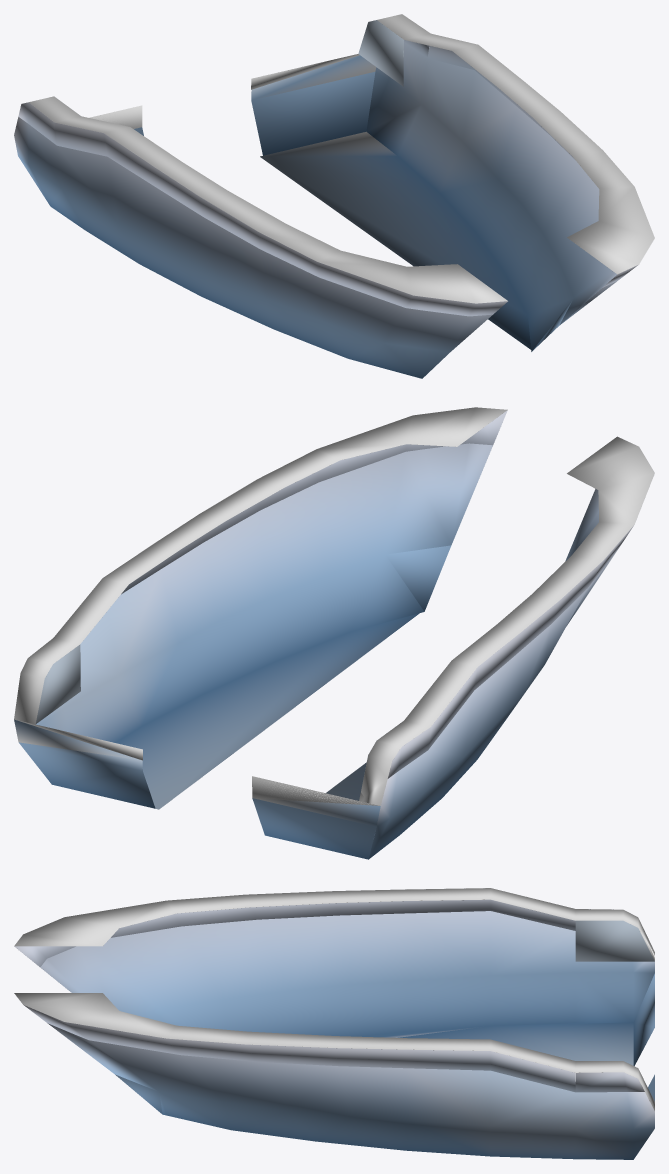
The model's file is BOAT.fbx.
3 views of the same model, one above another, from view 1: azimuth 30°, elevation 25°; view 2: azimuth 150°, elevation 25°; view 3: azimuth 270°, elevation 25° (orthographic). The views are drawn at different scales.
Parts seen in each view (by area): view 1: vsn_mesh_2_f0501i0301_ship04.001, vsn_mesh_2_f0501i0301_ship04; view 2: vsn_mesh_2_f0501i0301_ship04.001, vsn_mesh_2_f0501i0301_ship04; view 3: vsn_mesh_2_f0501i0301_ship04, vsn_mesh_2_f0501i0301_ship04.001.
Boxes of the visible parts, x1,y1,x2,y2 form: vsn_mesh_2_f0501i0301_ship04.001: [251, 14, 654, 351]; vsn_mesh_2_f0501i0301_ship04: [14, 96, 507, 378]; vsn_mesh_2_f0501i0301_ship04.001: [14, 407, 507, 809]; vsn_mesh_2_f0501i0301_ship04: [252, 436, 654, 859]; vsn_mesh_2_f0501i0301_ship04: [14, 888, 654, 1066]; vsn_mesh_2_f0501i0301_ship04.001: [14, 993, 654, 1159].
Bounding box in the file's own units: 11.93 × 4.3 × 20.04.
